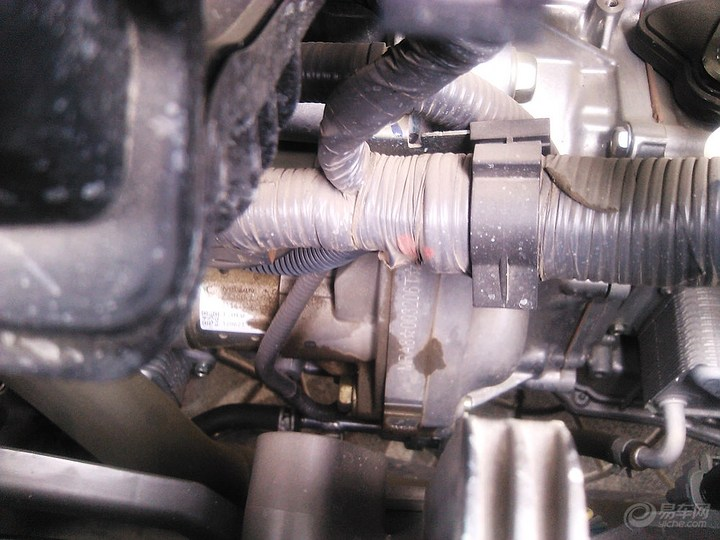oil: (364, 325, 460, 388)
